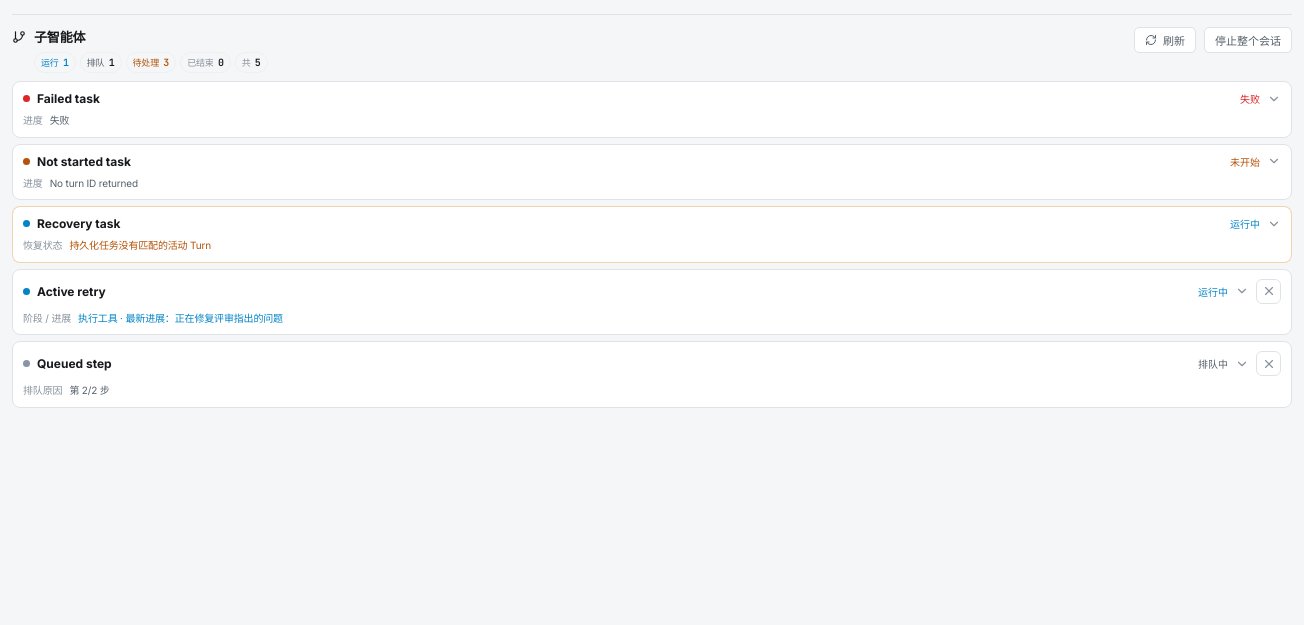
Test case: ChildTasksPane › groups retry stages, shows sequence position, and prioritizes recovery and failures
Expected: the text with class "not_started" reads "未开始", [1230,156,1260,168]
Expected: the text "No turn ID returned" is shown, [50,176,138,188]
Click the button with class "child-task-summary" showing "Active retry 运行中" at (71, 291), box [23,284,1249,298]
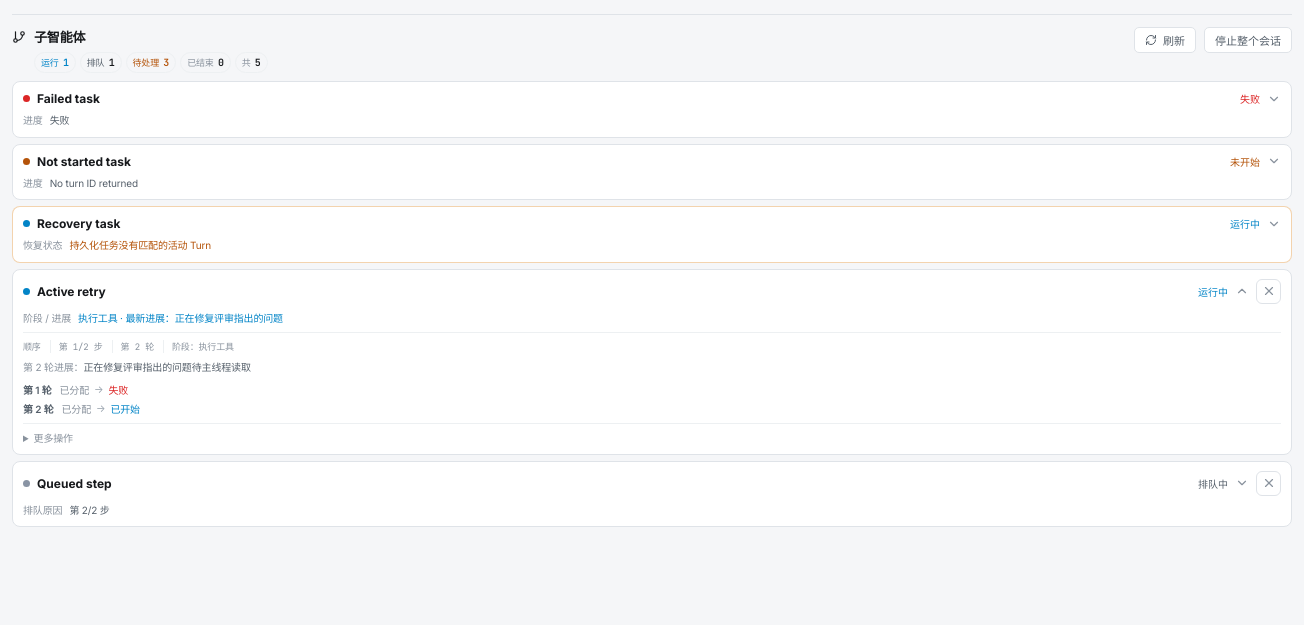
Result: the element with class "child-task-row" shows "第 2 轮" at [121,341,154,353]
Result: the element with class "child-task-row" shows "第 1/2 步" at [59,341,103,353]
Result: the number of list items with class "child-task-attempt" is 2 at [23,383,128,396]; [23,402,140,414]
Click the button with class "child-task-summary" showing "Recovery task 运行中" at (79, 224), box [23,216,1281,231]
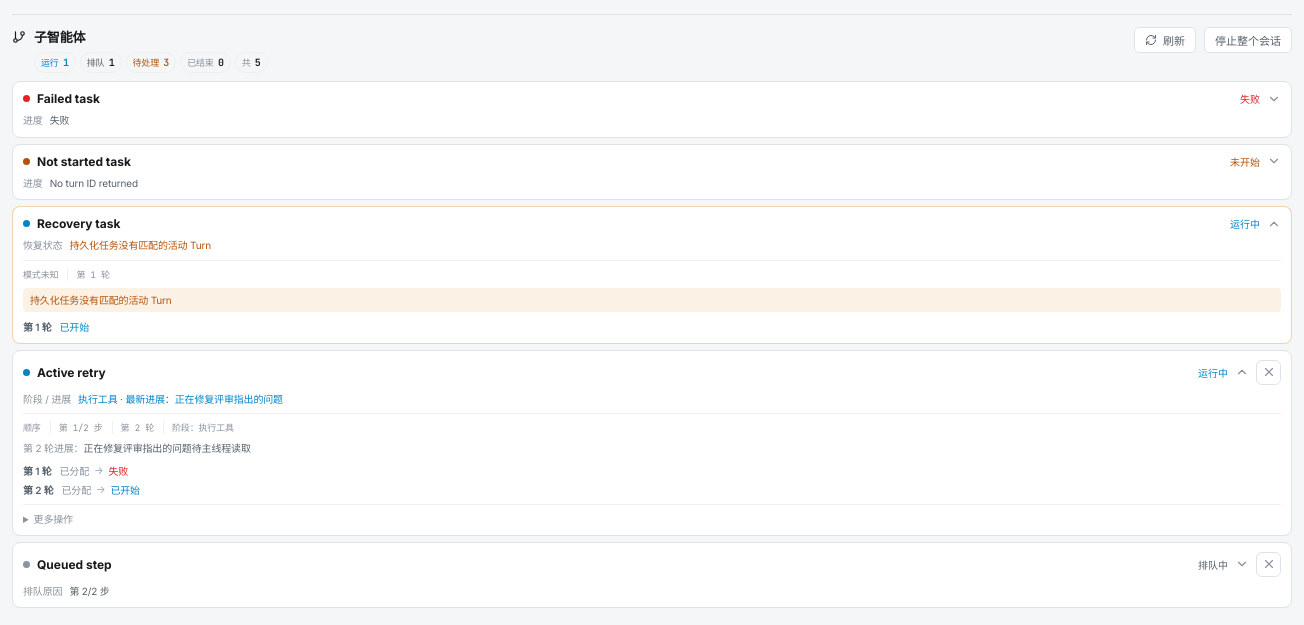
Result: the text with class "child-task-recovery" reads "持久化任务没有匹配的活动 Turn" at [30,294,172,306]
